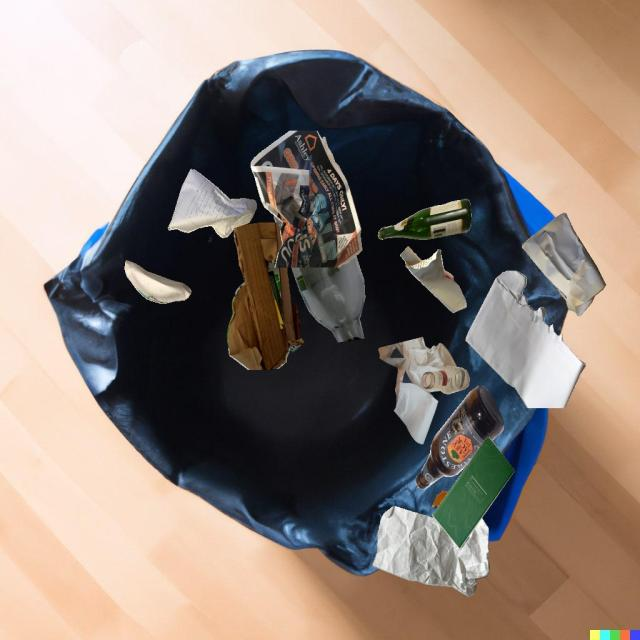biowaste: (431, 491, 448, 507)
cardboard: (227, 222, 304, 370), (400, 246, 467, 313)
glass: (416, 386, 504, 489), (291, 256, 365, 342), (378, 199, 471, 240), (421, 366, 470, 394), (428, 453, 430, 459), (441, 476, 444, 477)
paper: (465, 271, 585, 408), (251, 131, 362, 268), (373, 506, 490, 597), (432, 437, 515, 548), (522, 213, 606, 316), (378, 337, 457, 444), (168, 169, 257, 238), (125, 260, 191, 304)
